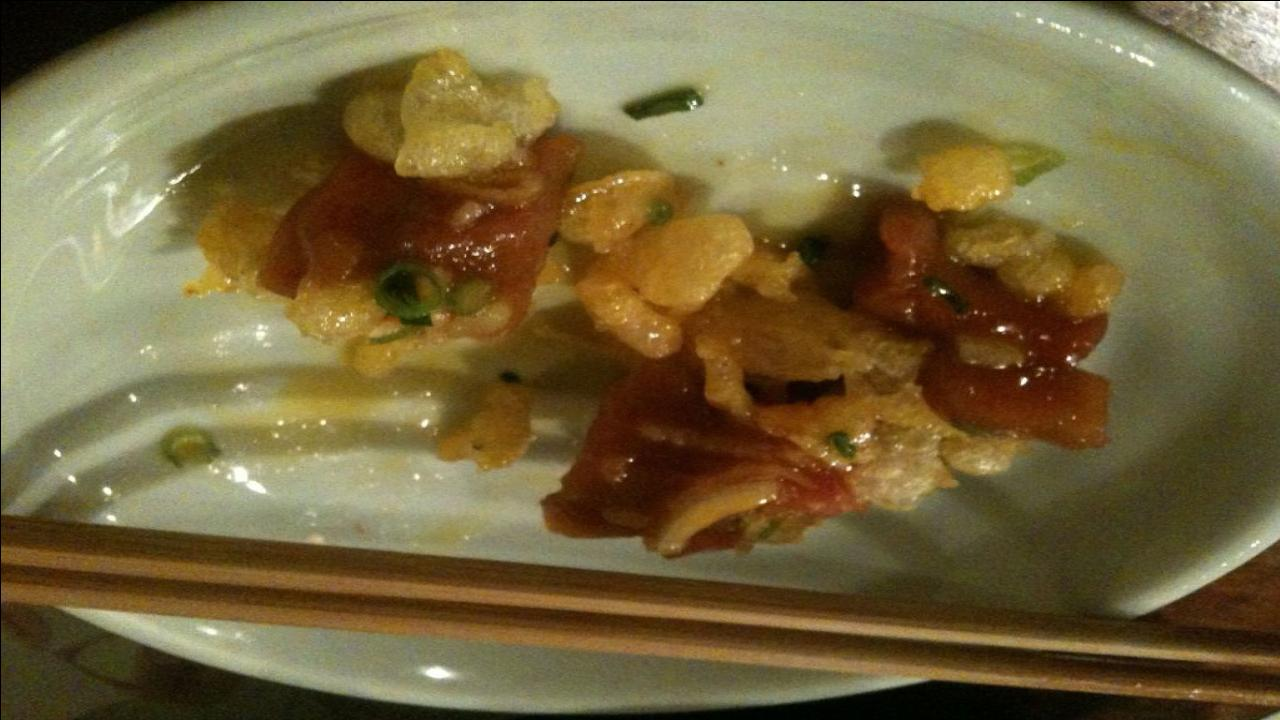chopstick: (0, 515, 1280, 705)
